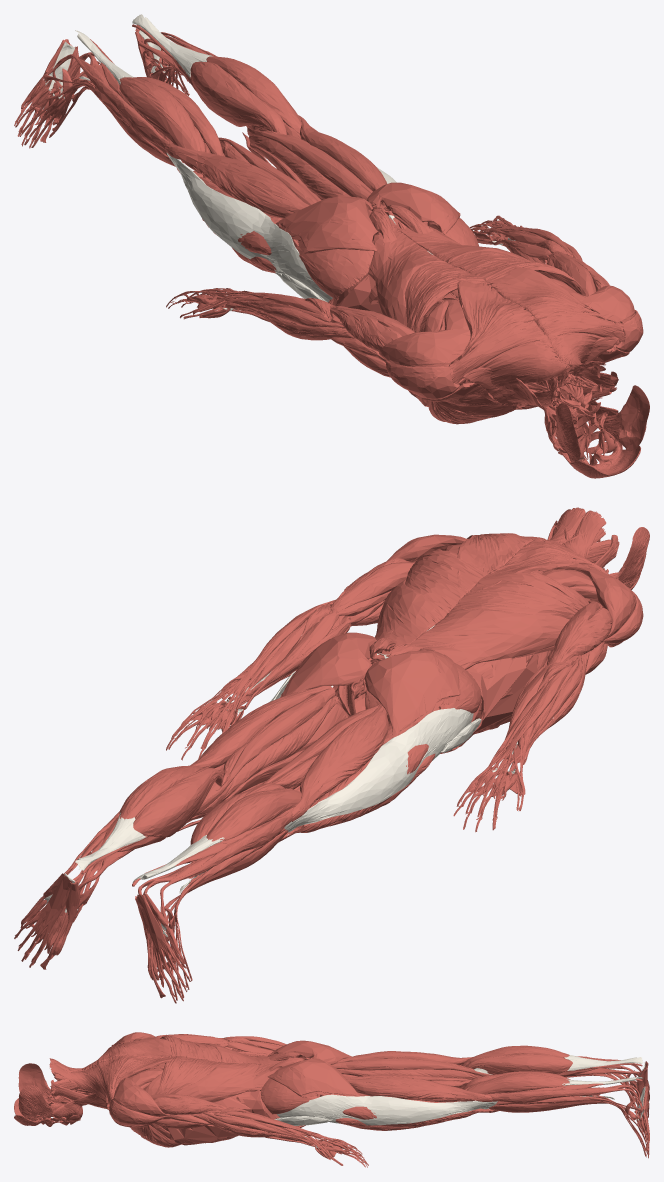
The model's file is anatomy-40-no-normals.glb.
3 views of the same model, one above another, from view 1: azimuth 30°, elevation 25°; view 2: azimuth 150°, elevation 25°; view 3: azimuth 270°, elevation 25° (orthographic). The views are drawn at different scales.
Parts seen in each view (by area): view 1: right latissimus dorsi, right iliotibial tract, right gluteus maximus, long head of right biceps femoris, left latissimus dorsi, medial head of left gastrocnemius, lateral head of right gastrocnemius, ascending part of left trapezius, ascending part of right trapezius, descending part of right trapezius, spinal part of right deltoid, right gluteus medius (+28 smaller); view 2: right latissimus dorsi, right iliotibial tract, left latissimus dorsi, right gluteus maximus, long head of right biceps femoris, left gluteus maximus, medial head of left gastrocnemius, right external oblique, long head of left biceps femoris, lateral head of right gastrocnemius, left semimembranosus, left semitendinosus (+28 smaller); view 3: left latissimus dorsi, left iliotibial tract, long head of left biceps femoris, left gluteus maximus, medial head of right gastrocnemius, left external oblique, right latissimus dorsi, lateral head of left gastrocnemius, right semitendinosus, spinal part of left deltoid, left gluteus medius, ascending part of left trapezius (+39 smaller).
Boxes of the visible parts, bbox=[...] form: right latissimus dorsi: bbox=[367, 224, 488, 332]; right iliotibial tract: bbox=[166, 152, 332, 302]; right gluteus maximus: bbox=[276, 196, 379, 253]; long head of right biceps femoris: bbox=[165, 143, 309, 218]; left latissimus dorsi: bbox=[389, 217, 585, 295]; medial head of left gastrocnemius: bbox=[190, 61, 287, 134]; lateral head of right gastrocnemius: bbox=[119, 77, 204, 173]; ascending part of left trapezius: bbox=[463, 267, 606, 321]; ascending part of right trapezius: bbox=[457, 271, 536, 357]; descending part of right trapezius: bbox=[477, 339, 585, 387]; spinal part of right deltoid: bbox=[379, 329, 472, 367]; right gluteus medius: bbox=[296, 246, 373, 300]; right latissimus dorsi: bbox=[388, 571, 585, 669]; right iliotibial tract: bbox=[284, 708, 473, 832]; left latissimus dorsi: bbox=[374, 550, 487, 656]; right gluteus maximus: bbox=[364, 650, 460, 737]; long head of right biceps femoris: bbox=[291, 704, 388, 821]; left gluteus maximus: bbox=[280, 632, 376, 697]; medial head of left gastrocnemius: bbox=[133, 767, 222, 837]; right external oblique: bbox=[459, 653, 547, 746]; long head of left biceps femoris: bbox=[190, 686, 331, 768]; lateral head of right gastrocnemius: bbox=[206, 788, 301, 841]; left semimembranosus: bbox=[195, 697, 336, 816]; left semitendinosus: bbox=[192, 687, 335, 817]; left latissimus dorsi: bbox=[155, 1056, 279, 1102]; left iliotibial tract: bbox=[277, 1094, 497, 1125]; long head of left biceps femoris: bbox=[346, 1076, 492, 1101]; left gluteus maximus: bbox=[268, 1058, 360, 1097]; medial head of right gastrocnemius: bbox=[465, 1054, 572, 1074]; left external oblique: bbox=[165, 1090, 270, 1145]; right latissimus dorsi: bbox=[160, 1035, 283, 1064]; lateral head of left gastrocnemius: bbox=[466, 1072, 569, 1094]; right semitendinosus: bbox=[332, 1058, 491, 1076]; spinal part of left deltoid: bbox=[113, 1077, 170, 1116]; left gluteus medius: bbox=[260, 1078, 317, 1114]; ascending part of left trapezius: bbox=[111, 1055, 201, 1095].
Bounding box in the file's own units: 639 × 251 × 1672.
